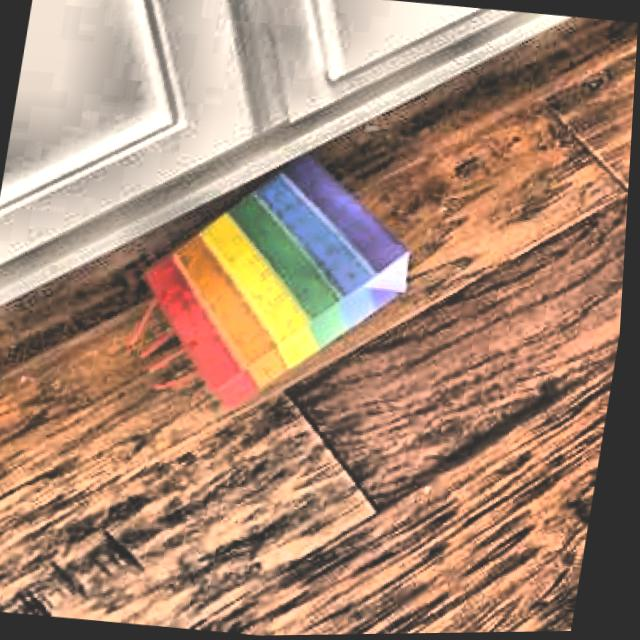Paper-bag: (99, 116, 449, 434)
